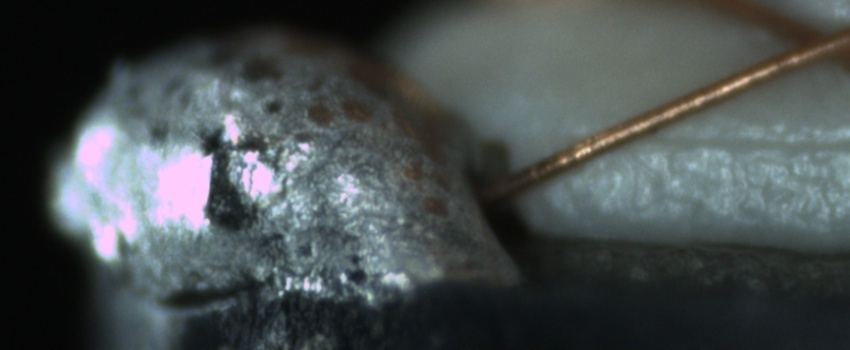CL: (764, 9, 847, 76)
DL: (609, 107, 846, 175)
